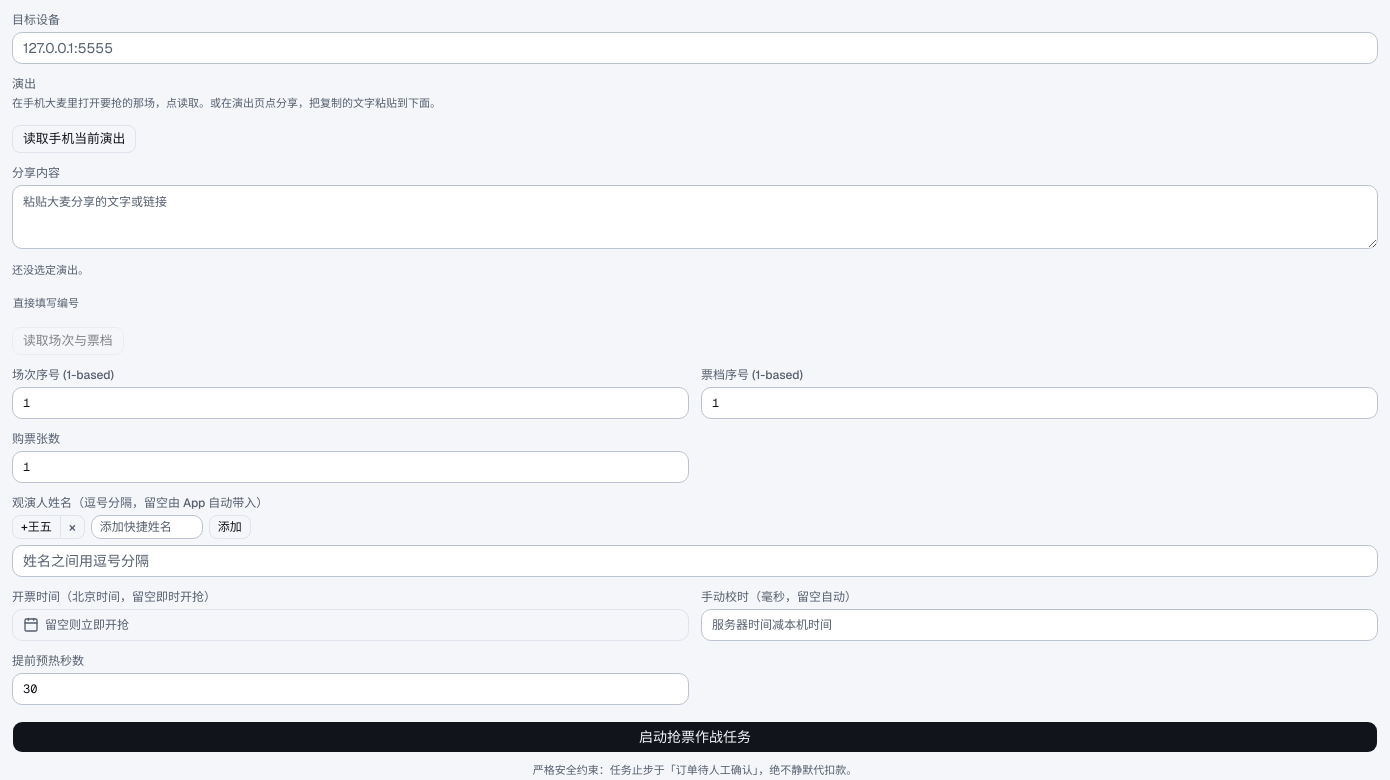
Test: TaskForm 观演人快捷项 › 保存失败时名单不变
Step 1. Type "赵六" into the field labelled "添加快捷姓名" → (147, 527), box x1=91 y1=515 x2=203 y2=539
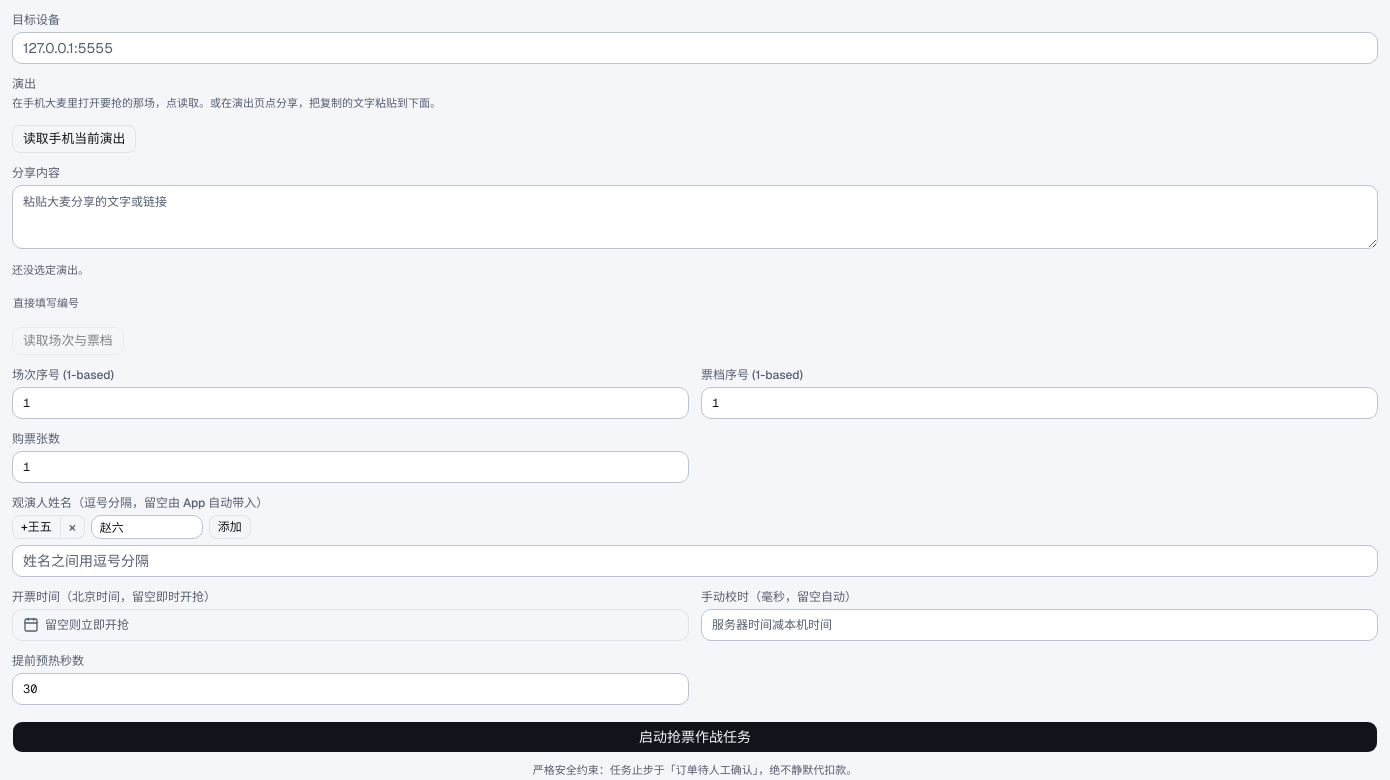
Step 2. Click the button "添加" → (230, 527), box x1=209 y1=515 x2=251 y2=539
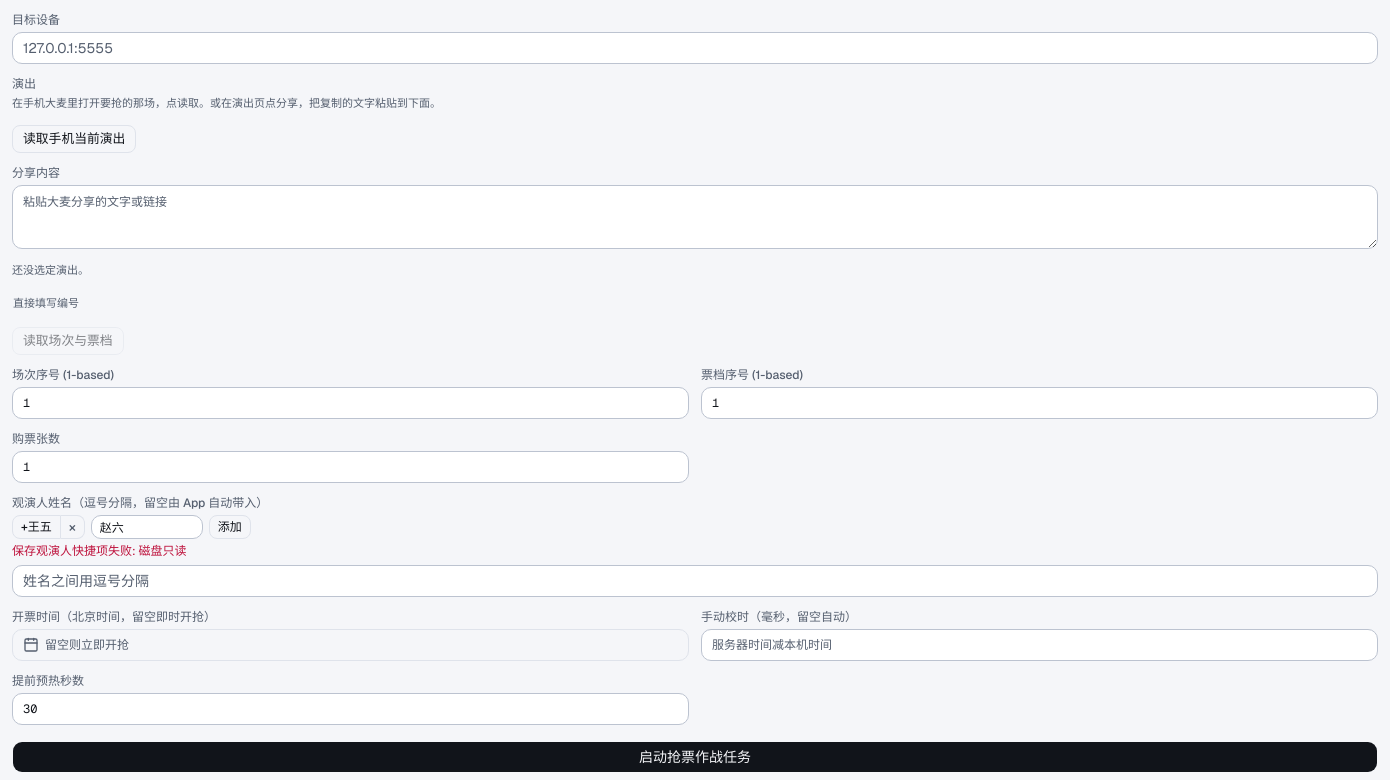
Expected: the button "+王五" is shown, x1=12 y1=515 x2=61 y2=539
Expected: the text "保存观演人快捷项失败: 磁盘只读" is shown, x1=12 y1=543 x2=187 y2=559
